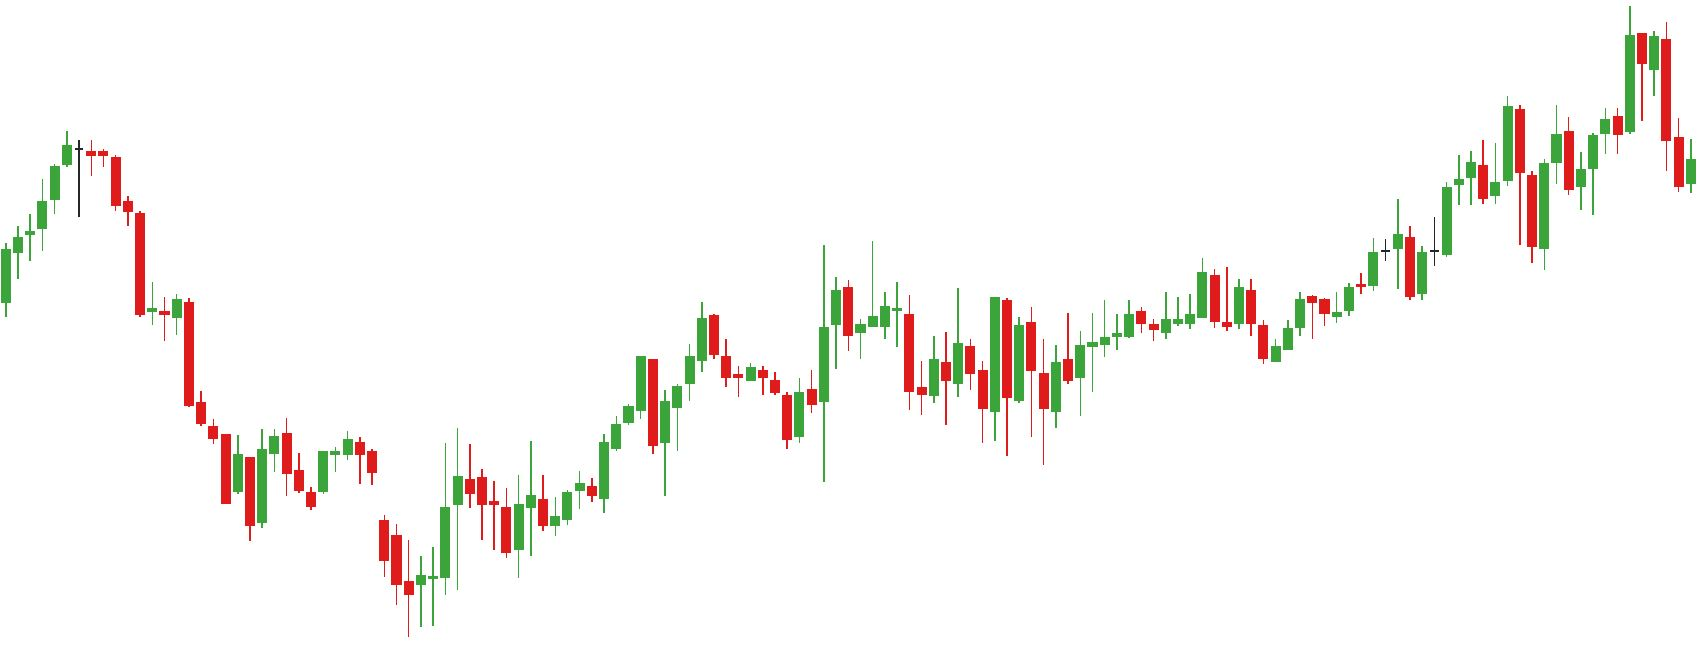buy: (1441, 156, 1551, 273), (1149, 297, 1293, 365)
